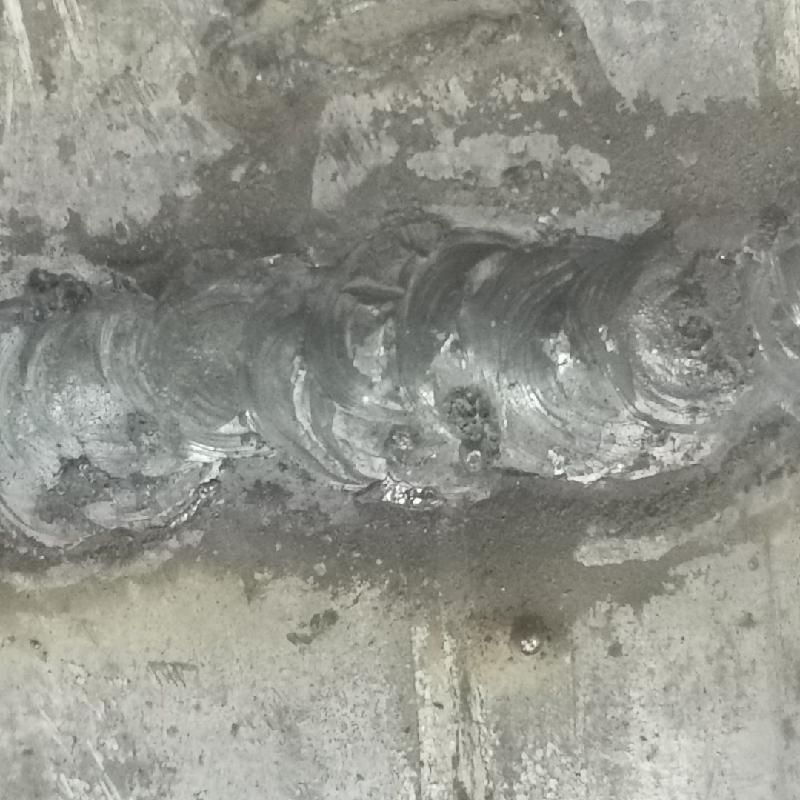good: (2, 250, 799, 531)
